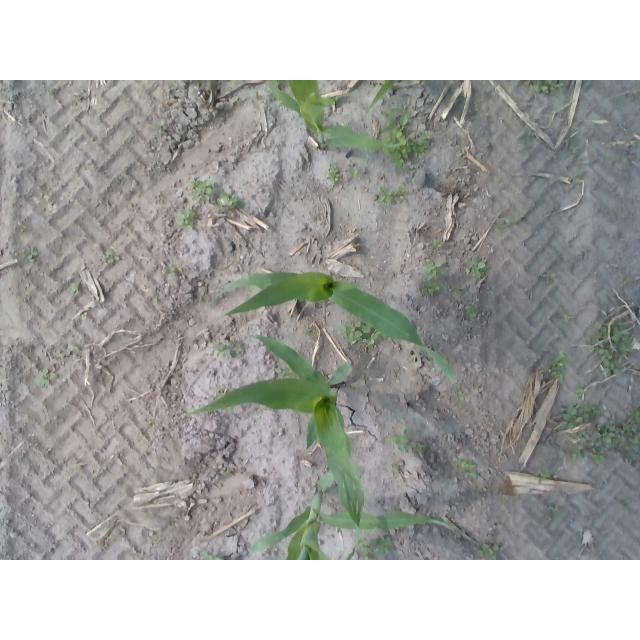Maize: (185, 334, 364, 526), (217, 272, 459, 385), (201, 472, 455, 560), (268, 81, 417, 149)
Weeds: (588, 326, 634, 359), (617, 408, 640, 464), (380, 108, 411, 140), (527, 80, 566, 94), (597, 419, 616, 446), (391, 429, 413, 452), (564, 405, 583, 429), (425, 260, 450, 278), (193, 179, 212, 202), (470, 257, 490, 277), (390, 149, 410, 169), (341, 323, 362, 342), (377, 188, 404, 202), (38, 368, 59, 386), (476, 543, 498, 560), (358, 537, 375, 559), (553, 352, 566, 380), (372, 535, 391, 554), (178, 212, 196, 229), (601, 358, 619, 375), (503, 214, 524, 226), (219, 194, 237, 207), (228, 340, 249, 351), (362, 327, 374, 346), (412, 140, 428, 154), (584, 406, 601, 419), (457, 459, 476, 470), (105, 252, 120, 265), (216, 344, 230, 357), (329, 165, 340, 181), (466, 303, 478, 317), (584, 442, 596, 456), (615, 152, 630, 163), (520, 140, 532, 152), (427, 282, 440, 293), (573, 446, 584, 459), (545, 505, 556, 518), (578, 431, 590, 442), (414, 443, 426, 454), (542, 273, 555, 283), (27, 248, 38, 259), (451, 285, 462, 296), (346, 167, 358, 177), (563, 313, 574, 323), (540, 469, 551, 479), (74, 91, 84, 102), (594, 455, 607, 463), (431, 238, 442, 247), (161, 267, 175, 274), (464, 473, 477, 480), (151, 122, 161, 131), (70, 283, 79, 293), (570, 145, 580, 154), (56, 350, 65, 359), (68, 345, 81, 351), (575, 173, 582, 184), (621, 274, 630, 282), (578, 390, 585, 399), (623, 505, 630, 514), (424, 132, 431, 141), (569, 138, 578, 145), (146, 421, 154, 428), (275, 367, 282, 374), (81, 313, 87, 320), (152, 297, 159, 303), (631, 90, 637, 95)
